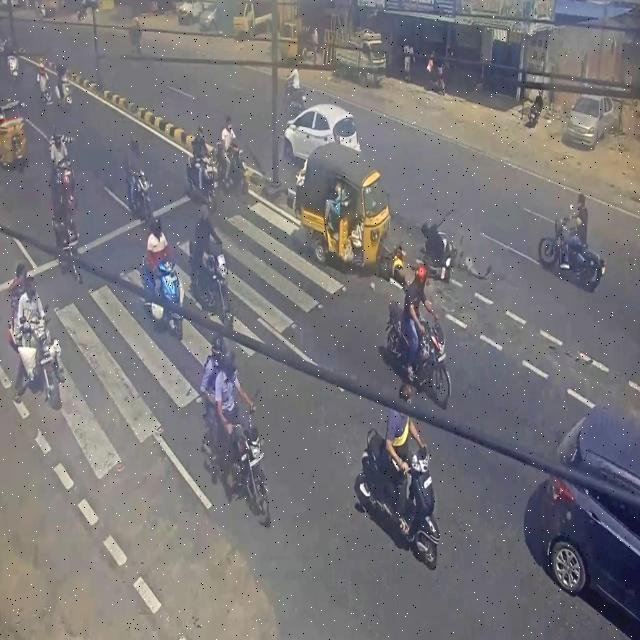accident: (417, 209, 495, 290)
